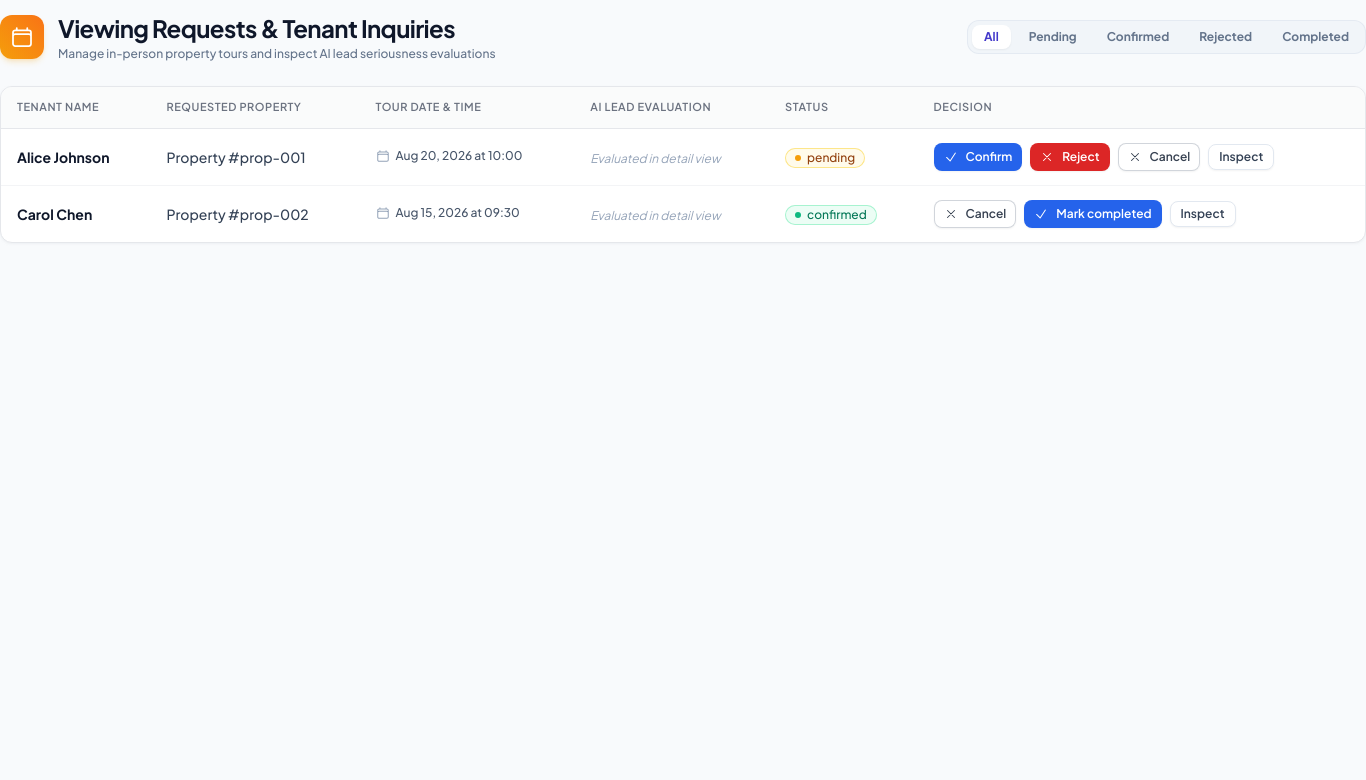
Scenario: ViewingRequestsPage › surfaces the backend rejection for a forbidden transition without fabricating success
Expected: the link "Alice Johnson" is shown, [17,148,110,166]
Click the button "Confirm" at point(978, 156), box [934,142,1022,170]
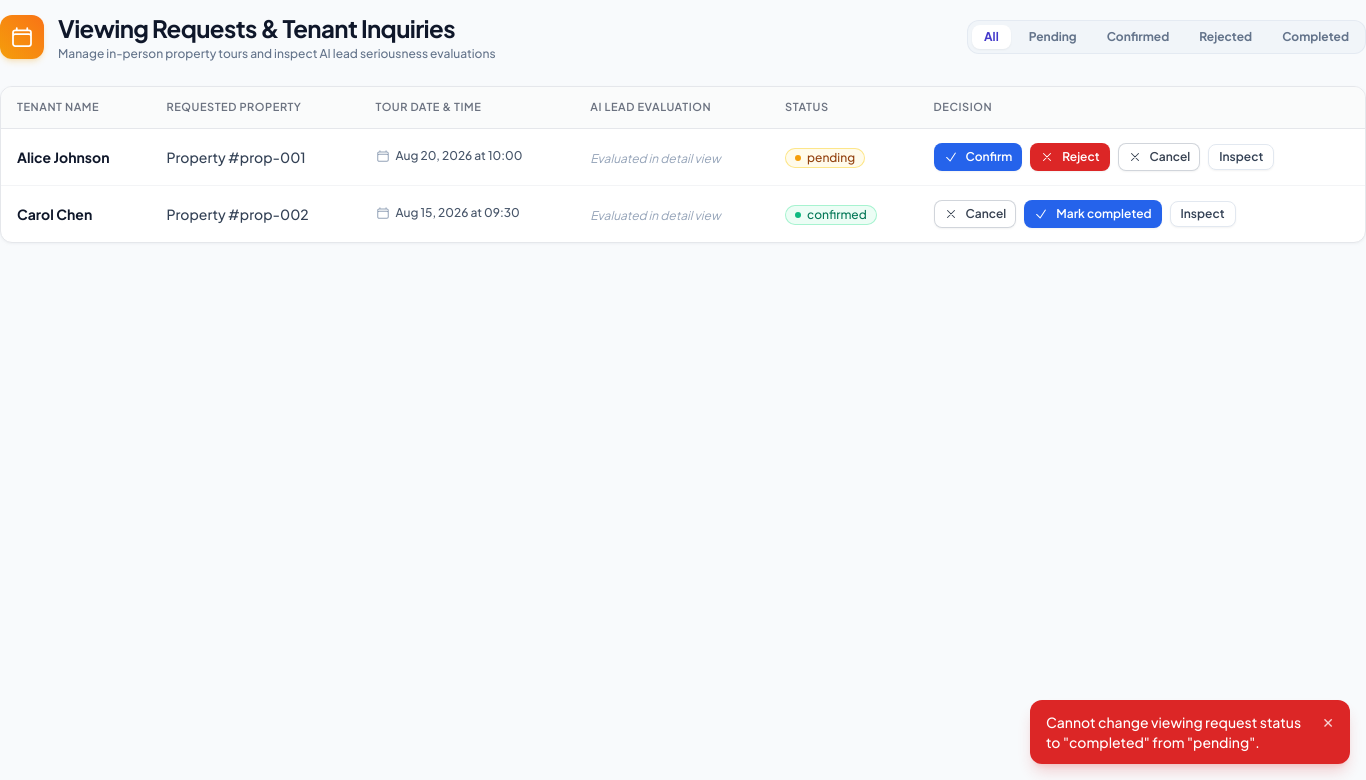
Expected: the text "Cannot change viewing request status to \"completed\" from \"pending\"." is shown, [1046,712,1310,752]
